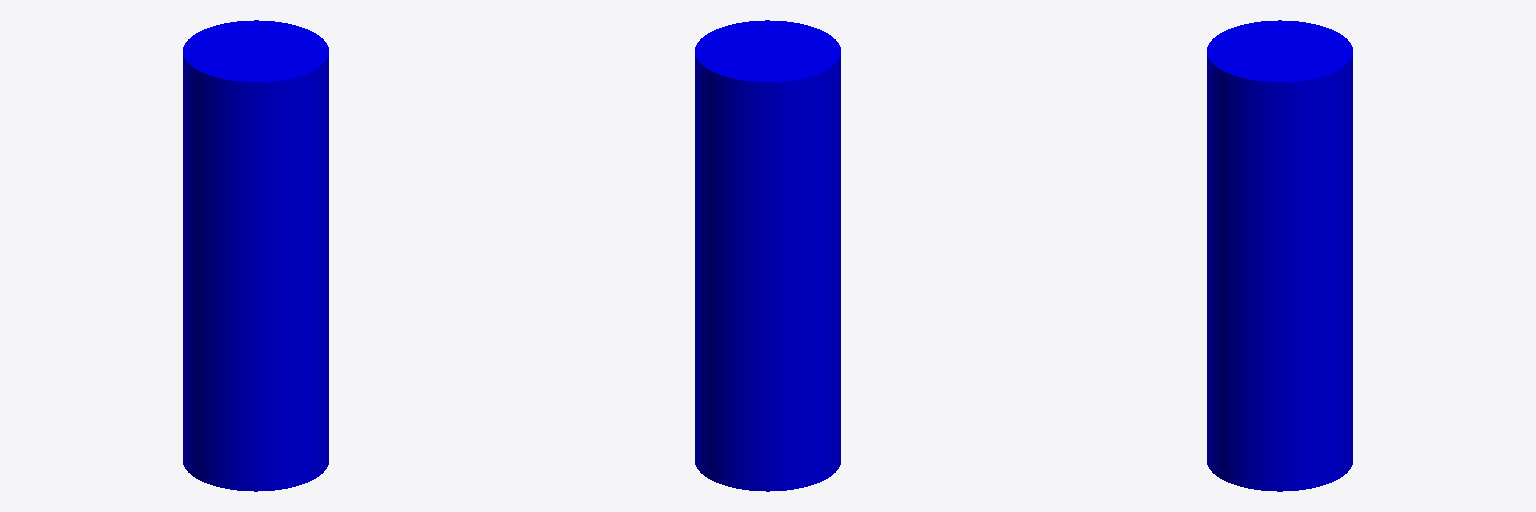
URDF robot description (board3_block3):
<?xml version="1.0"?>
<robot name="board3_block3">
    <link name="board3_block3">
        <visual>
            <origin xyz="0 0 0 " rpy=" 0 0 0"/>
            <geometry>
                <mesh filename="../meshes/SIMO_Board3_Block3.stl" scale="0.001 0.001 0.001"/>
            </geometry>
            <material name="red">
                <color rgba="0.0 0.0 1.0 1.0"/>
            </material>
        </visual>
        <collision>
            <origin xyz="0 0 0" rpy="0 0 0"/>
            <geometry>
                <mesh filename="../meshes/SIMO_Board3_Block3.stl" scale="0.001 0.001 0.001"/>
            </geometry>
        </collision>
    </link>
</robot>

--- Facts derived from the render (not from the file) ---
Views: 3 orthographic renders of the robot side by side, from view 1: azimuth 30°, elevation 25°; view 2: azimuth 150°, elevation 25°; view 3: azimuth 270°, elevation 25°.
Model board3_block3 with 1 links and 0 joints (none), rooted at board3_block3, posed all joints at 0.
Visible links, largest first — view 1: board3_block3; view 2: board3_block3; view 3: board3_block3.
Boxes of the visible links, left/top/right/bottom form: board3_block3: left=183, top=20, right=328, bottom=491; board3_block3: left=695, top=20, right=840, bottom=491; board3_block3: left=1207, top=20, right=1352, bottom=491.
Bounding box of the posed robot: 0.0324 × 0.0324 × 0.1 m (x, y, z).
1 mesh visuals loaded from 1 distinct referenced files (1 ASCII STL).
